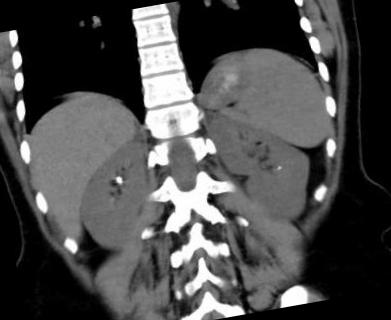Tas_Var: (113, 173, 124, 186), (274, 163, 282, 170)
